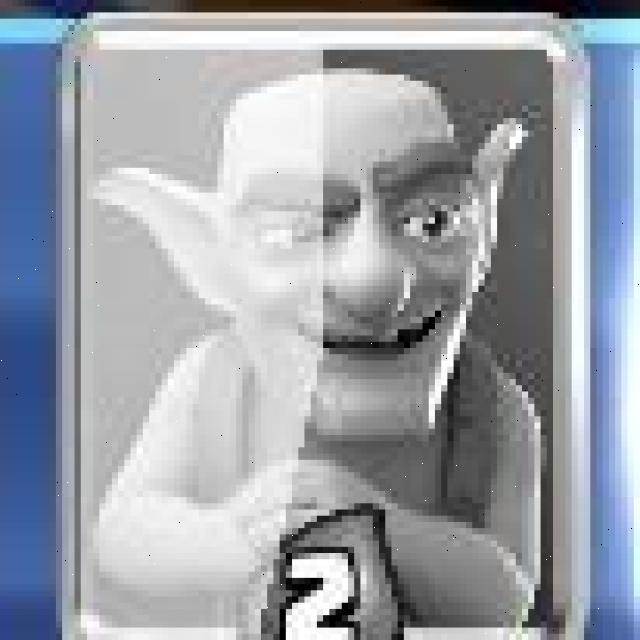Goblins: (61, 15, 583, 640)
